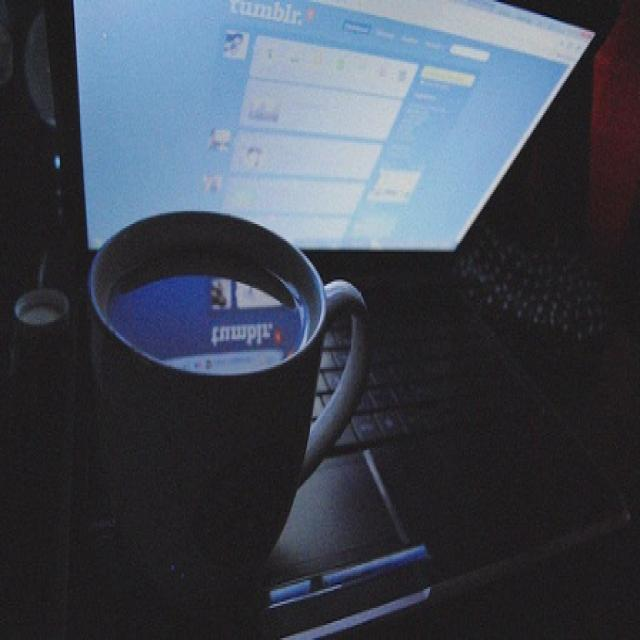Cup: (90, 212, 322, 592), (0, 263, 77, 380)
